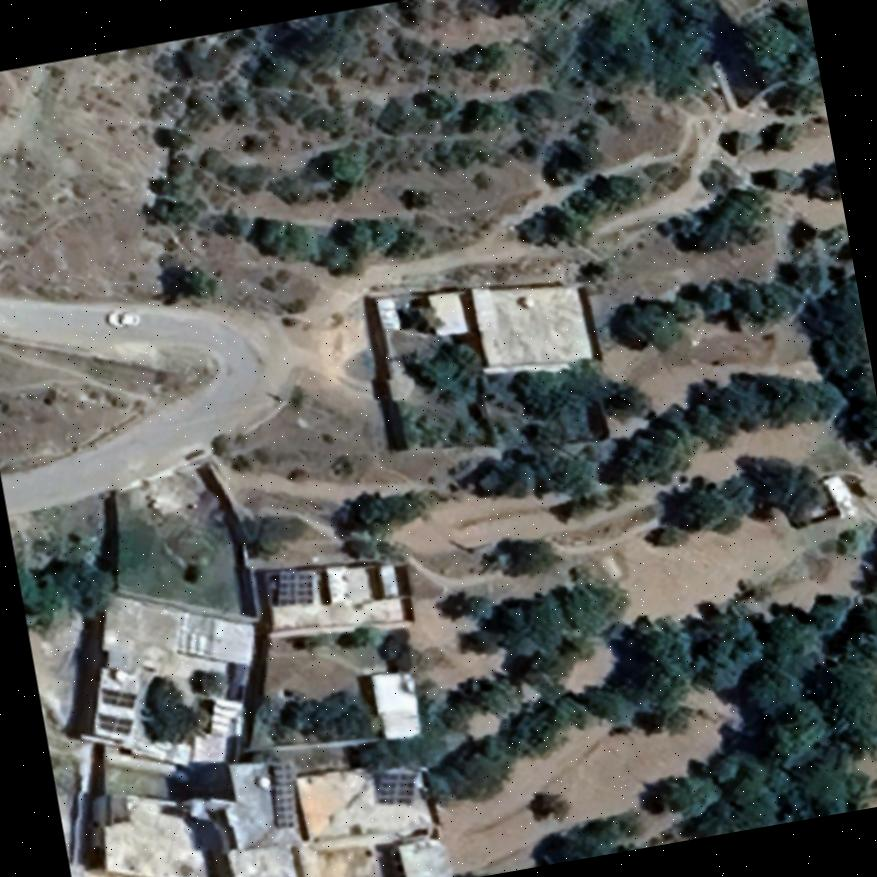Solarpanel: (264, 761, 301, 828), (272, 564, 316, 608), (374, 766, 418, 809), (92, 704, 135, 740), (97, 680, 139, 714)
